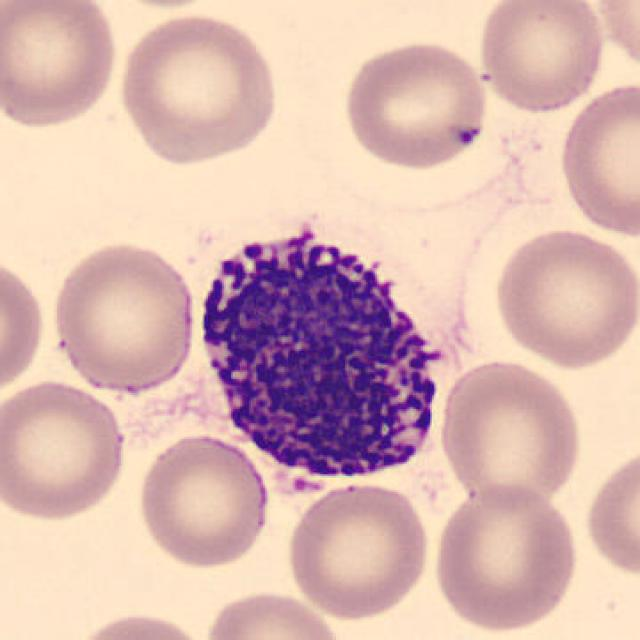Basophil: (185, 212, 462, 504)
RBC: (114, 9, 282, 169), (46, 236, 198, 397), (428, 481, 582, 635), (435, 356, 585, 513), (281, 478, 434, 622), (489, 224, 638, 370), (340, 37, 492, 173), (0, 376, 132, 526), (133, 430, 272, 571), (0, 0, 123, 132), (475, 0, 608, 115), (555, 78, 638, 242), (580, 441, 638, 580), (201, 587, 348, 640), (0, 252, 48, 399), (66, 608, 213, 640), (586, 0, 640, 79)
